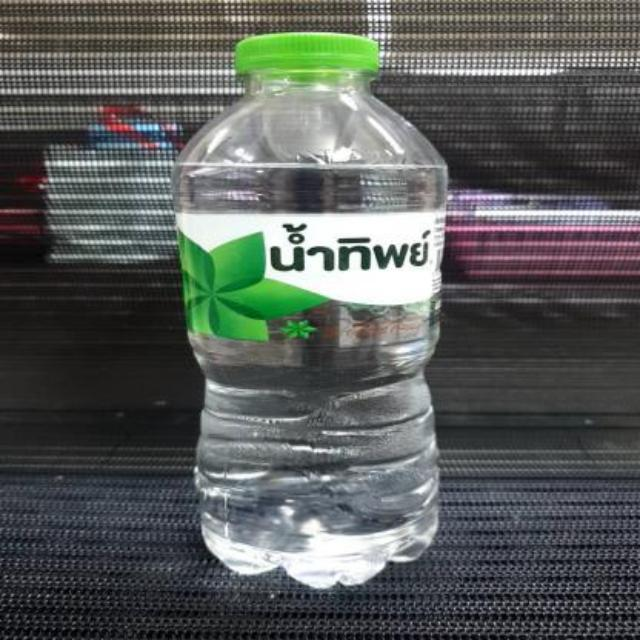bottle: (168, 29, 452, 594)
